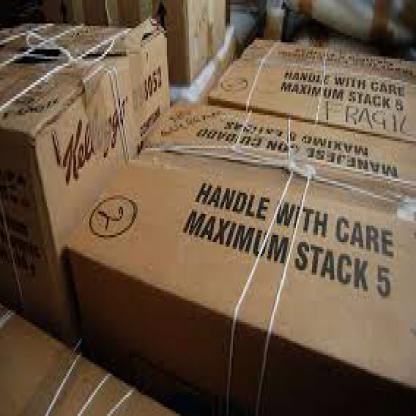paquete: (57, 80, 415, 415), (1, 9, 173, 341)
